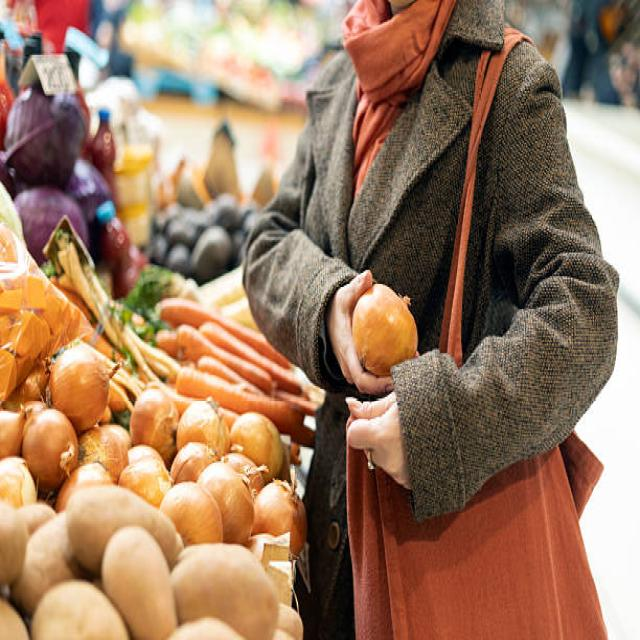article: (352, 284, 416, 375)
bags: (347, 435, 604, 638)
hands: (328, 271, 410, 488)
person: (244, 0, 617, 637)
